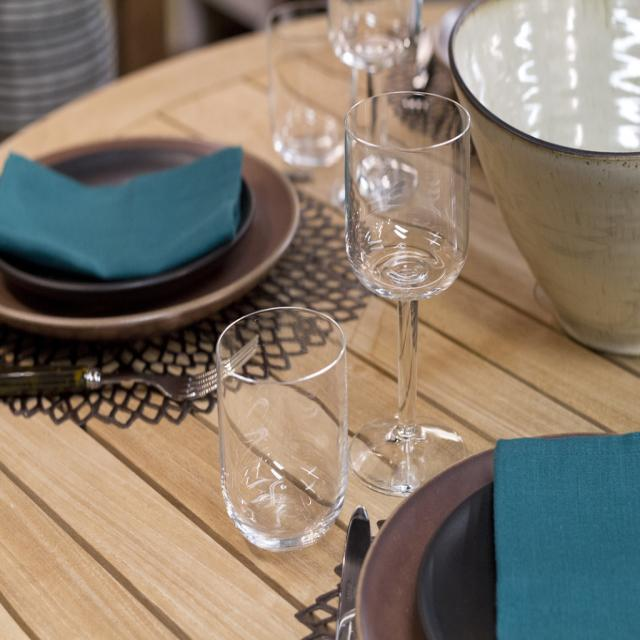ceramic plate: (0, 77, 310, 396), (357, 394, 640, 640), (0, 140, 286, 294)
